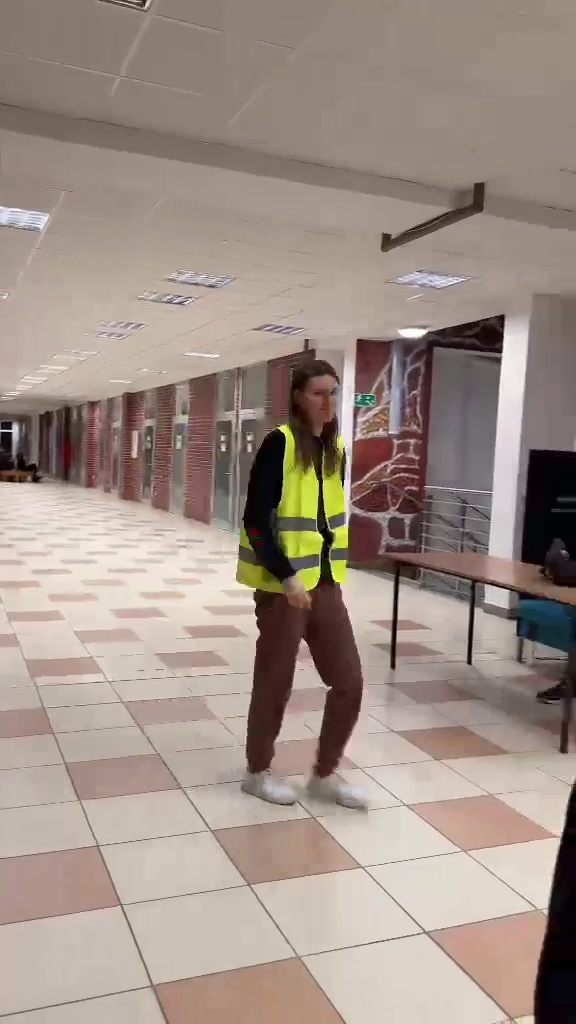vest: (242, 355, 382, 813)
